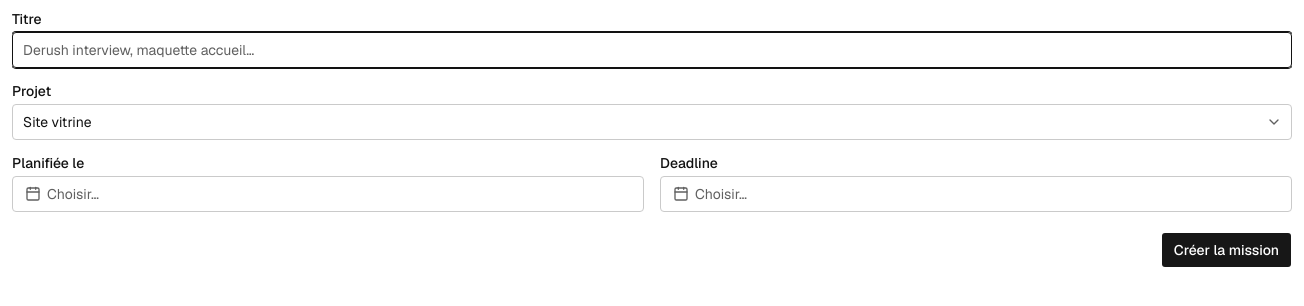
Test: MissionForm (création) › bloque la soumission sans titre et affiche l'erreur
The image size is (1304, 306).
What coordinates should you click on to do the following:
click the button "Créer la mission"
I would click on:
 (1226, 250)
Its box is [1161,232,1292,268].
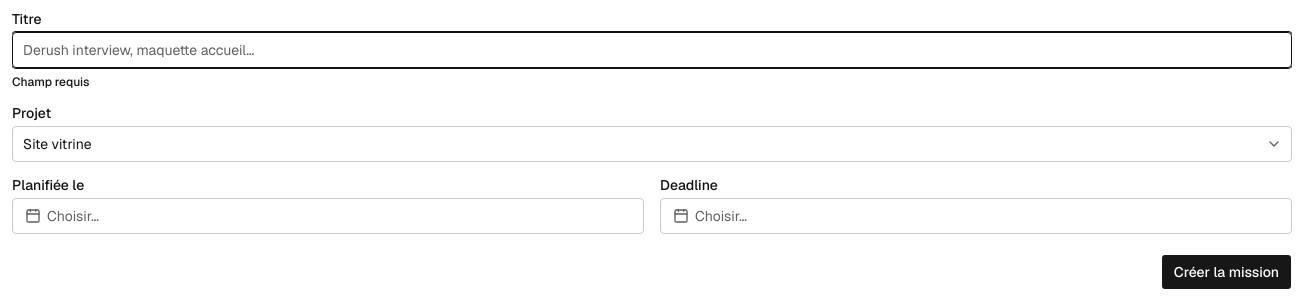
Expected: the text "Champ requis" is shown, [12,74,90,90]
